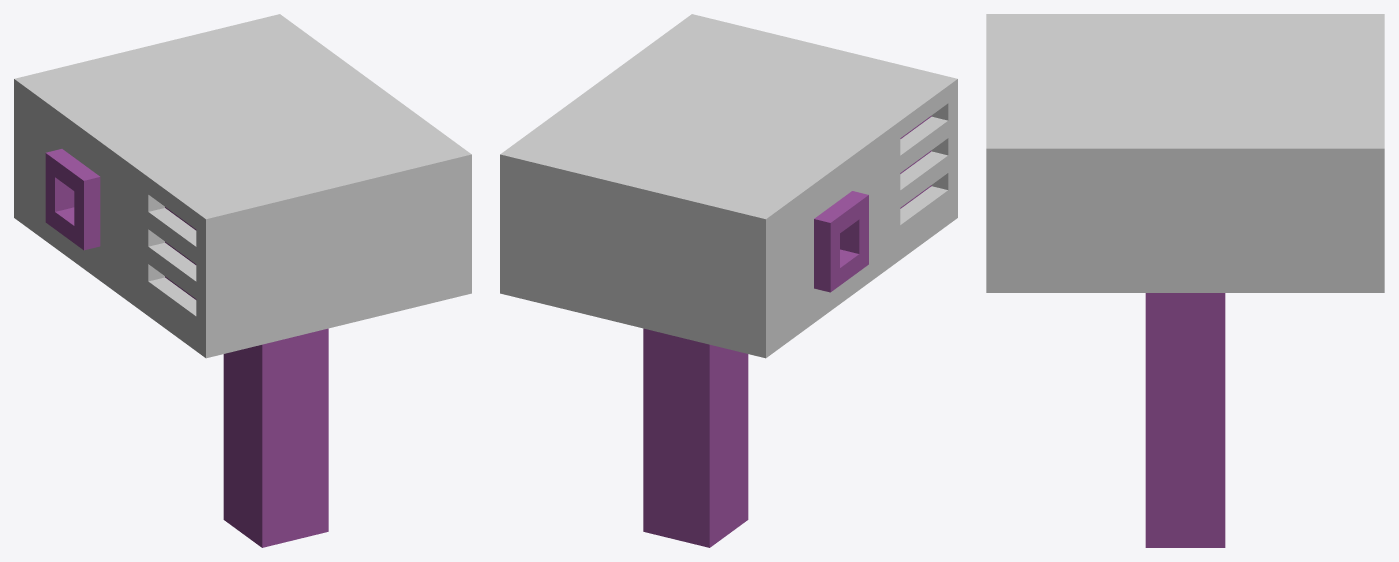
Rendered from Projector.fbx.
The picture shows the model from 3 angles, left to right: view 1: azimuth 30°, elevation 25°; view 2: azimuth 150°, elevation 25°; view 3: azimuth 270°, elevation 25°; orthographic projection. The views are drawn at different scales.
Parts seen in each view (by area): view 1: default; view 2: default; view 3: default.
Part boxes in pixels (x1,y1,x2,y2): default: (14, 14, 471, 547); default: (500, 14, 957, 547); default: (986, 14, 1384, 547).
Bounding box in the file's own units: 17 × 24 × 20.
